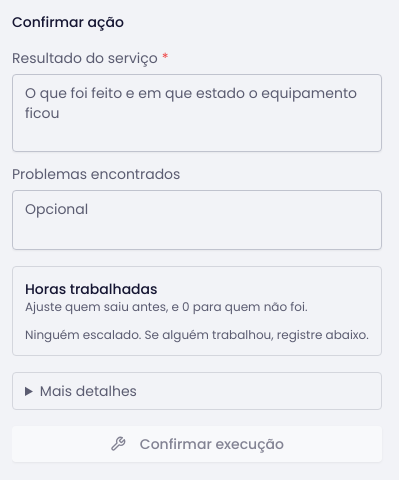
Scenario: ActionConfirmPanel — horas trabalhadas (SN-61) › OS sem equipe: confirma sem horas
Type "ok" into the text box labelled "Resultado do serviço*" at point(197, 113), box [12,74,382,152]
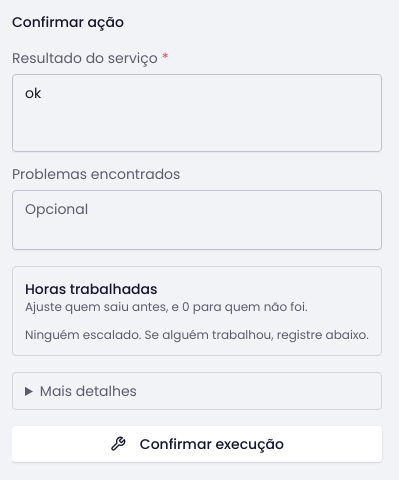
Check: the text "Ninguém escalado. Se alguém trabalhou, registre abaixo." is shown, box [25,327,369,343]
Check: the button "Confirmar execução" is enabled, box [12,426,382,462]
